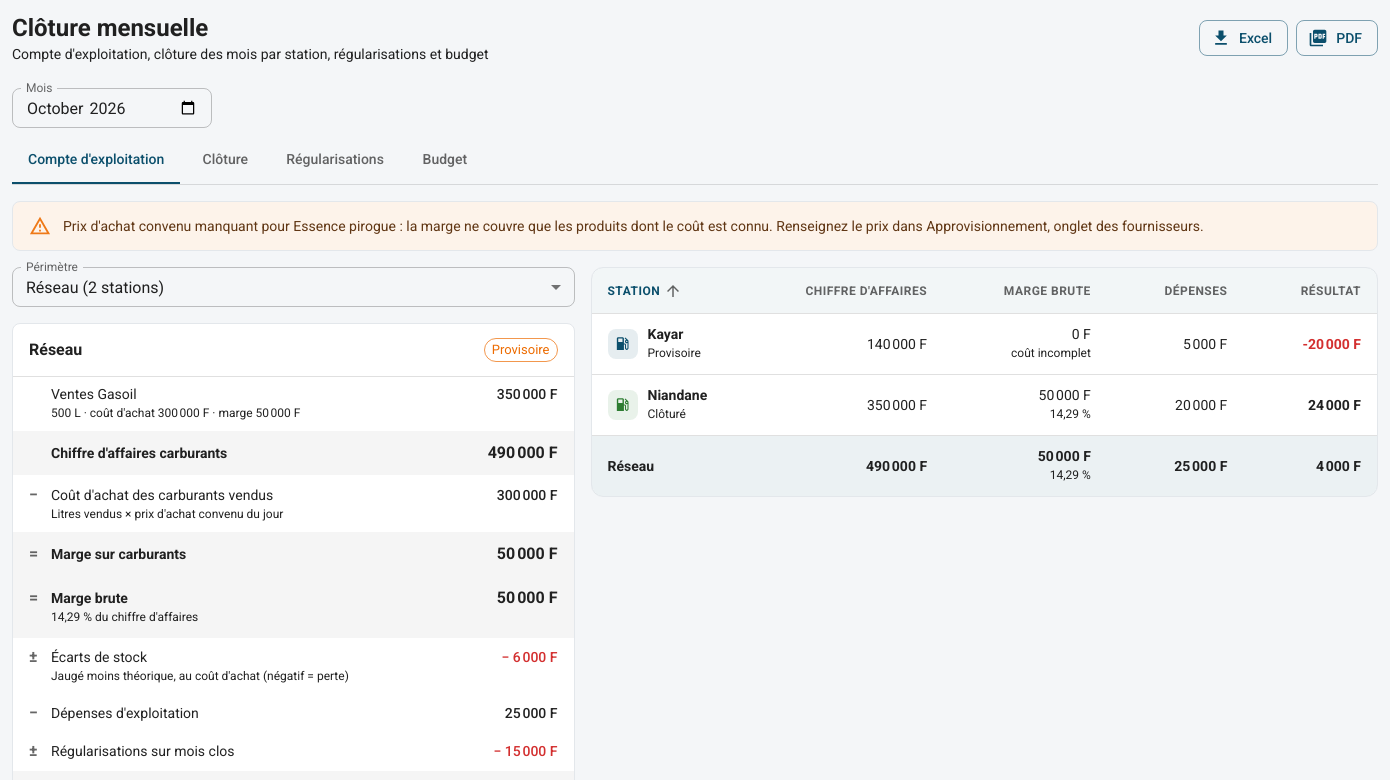
it: clôture mensuelle › présente le compte d’exploitation du réseau puis d’une station, et signale un prix d’achat manquant
The width and height of the screenshot is (1390, 780).
Check: the text with test id "compte-regularisations" reads "− 15 000 F", box [493,743,558,759]
Check: the message with test id "prix-manquants" shows "Essence pirogue", box [293,218,396,234]
Un clic sur une station du comparatif ouvre son compte
Click the row with test id "compte-NIA": (984, 405) [592,374,1377,435]
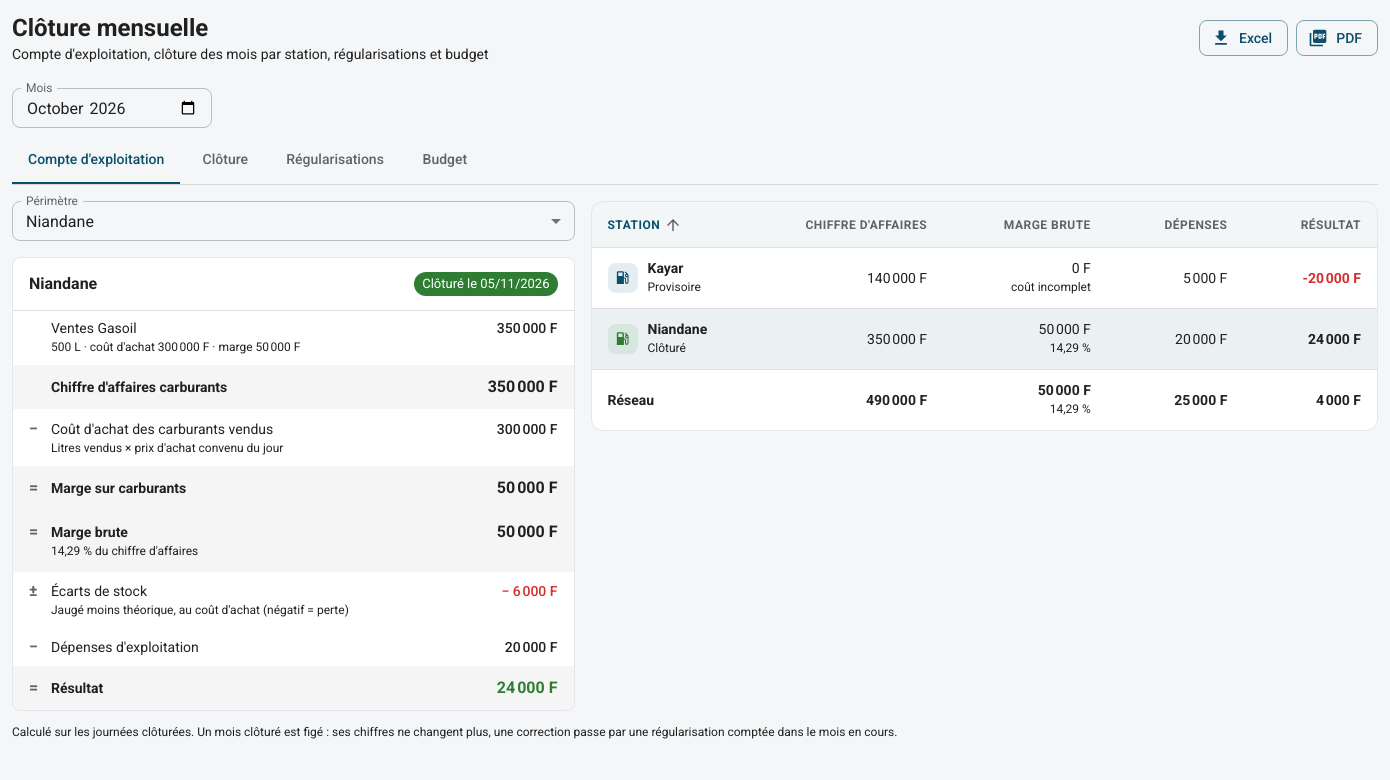
Check: the text with test id "compte-ca" reads "350 000 F", box [488,377,558,396]
Check: the text "Clôturé le 05/11/2026" is shown, box [414,274,558,294]
Check: the text with test id "compte-resultat" reads "24 000 F", box [497,678,558,697]
